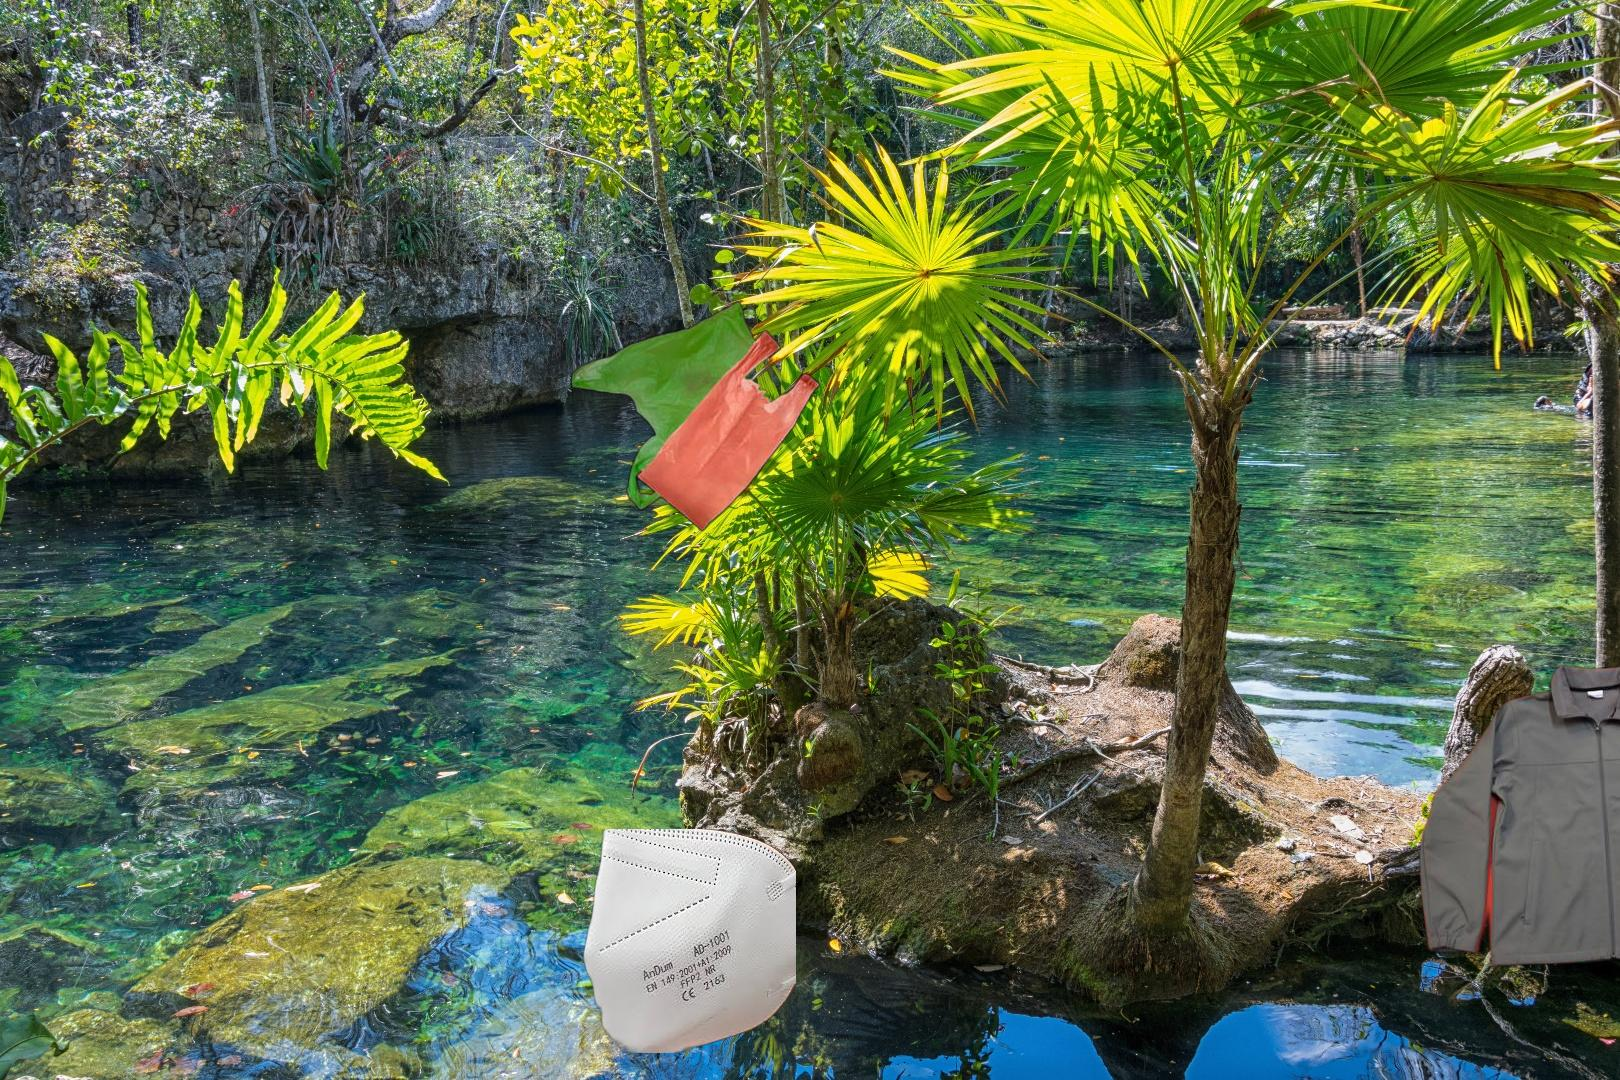clothes: (1416, 662, 1620, 972)
plastic-bag: (570, 298, 823, 532)
trash: (577, 829, 796, 1053)
